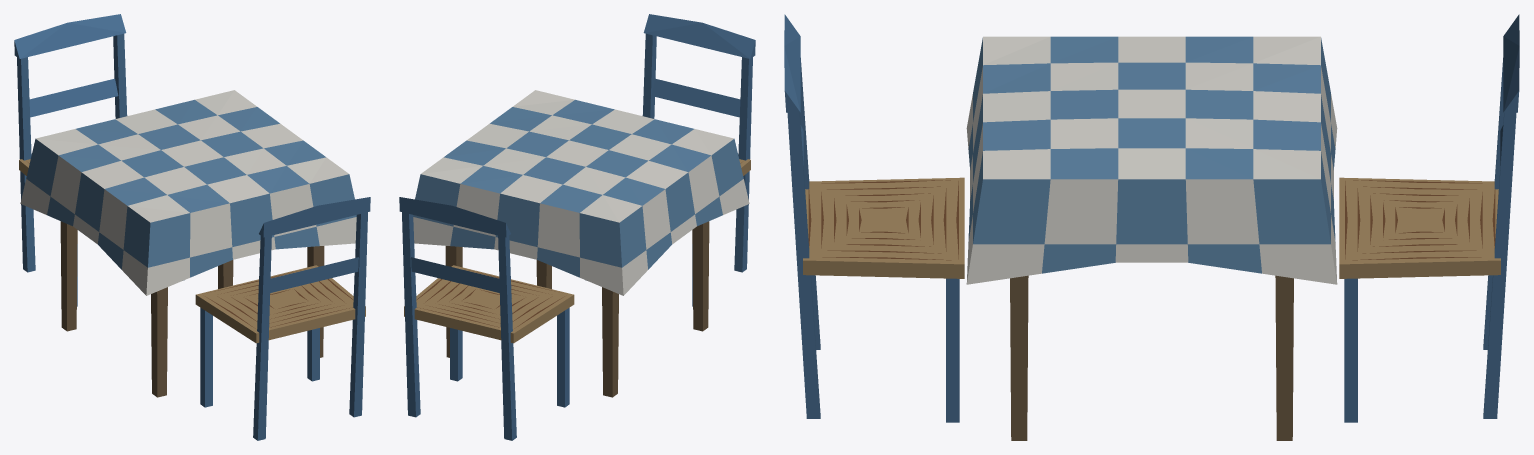
File: taverna-table-set-6b4bc1.glb
The picture shows the model from 3 angles, left to right: view 1: azimuth 30°, elevation 25°; view 2: azimuth 150°, elevation 25°; view 3: azimuth 270°, elevation 25°; orthographic projection. The views are drawn at different scales.
Parts seen in each view (by area): view 1: table, chair-front-mesh, chair-back-mesh; view 2: table, chair-back-mesh, chair-front-mesh; view 3: table, chair-front-mesh, chair-back-mesh.
Boxes of the visible parts, bbox=[...] form: table: bbox=[20, 90, 356, 397]; chair-front-mesh: bbox=[195, 197, 370, 440]; chair-back-mesh: bbox=[14, 14, 184, 306]; table: bbox=[413, 90, 749, 397]; chair-back-mesh: bbox=[399, 197, 574, 440]; chair-front-mesh: bbox=[585, 14, 755, 306]; table: bbox=[966, 36, 1337, 440]; chair-front-mesh: bbox=[784, 14, 964, 422]; chair-back-mesh: bbox=[1339, 14, 1519, 422].
Bounding box in the file's own units: 0.921 × 0.92 × 1.83.
